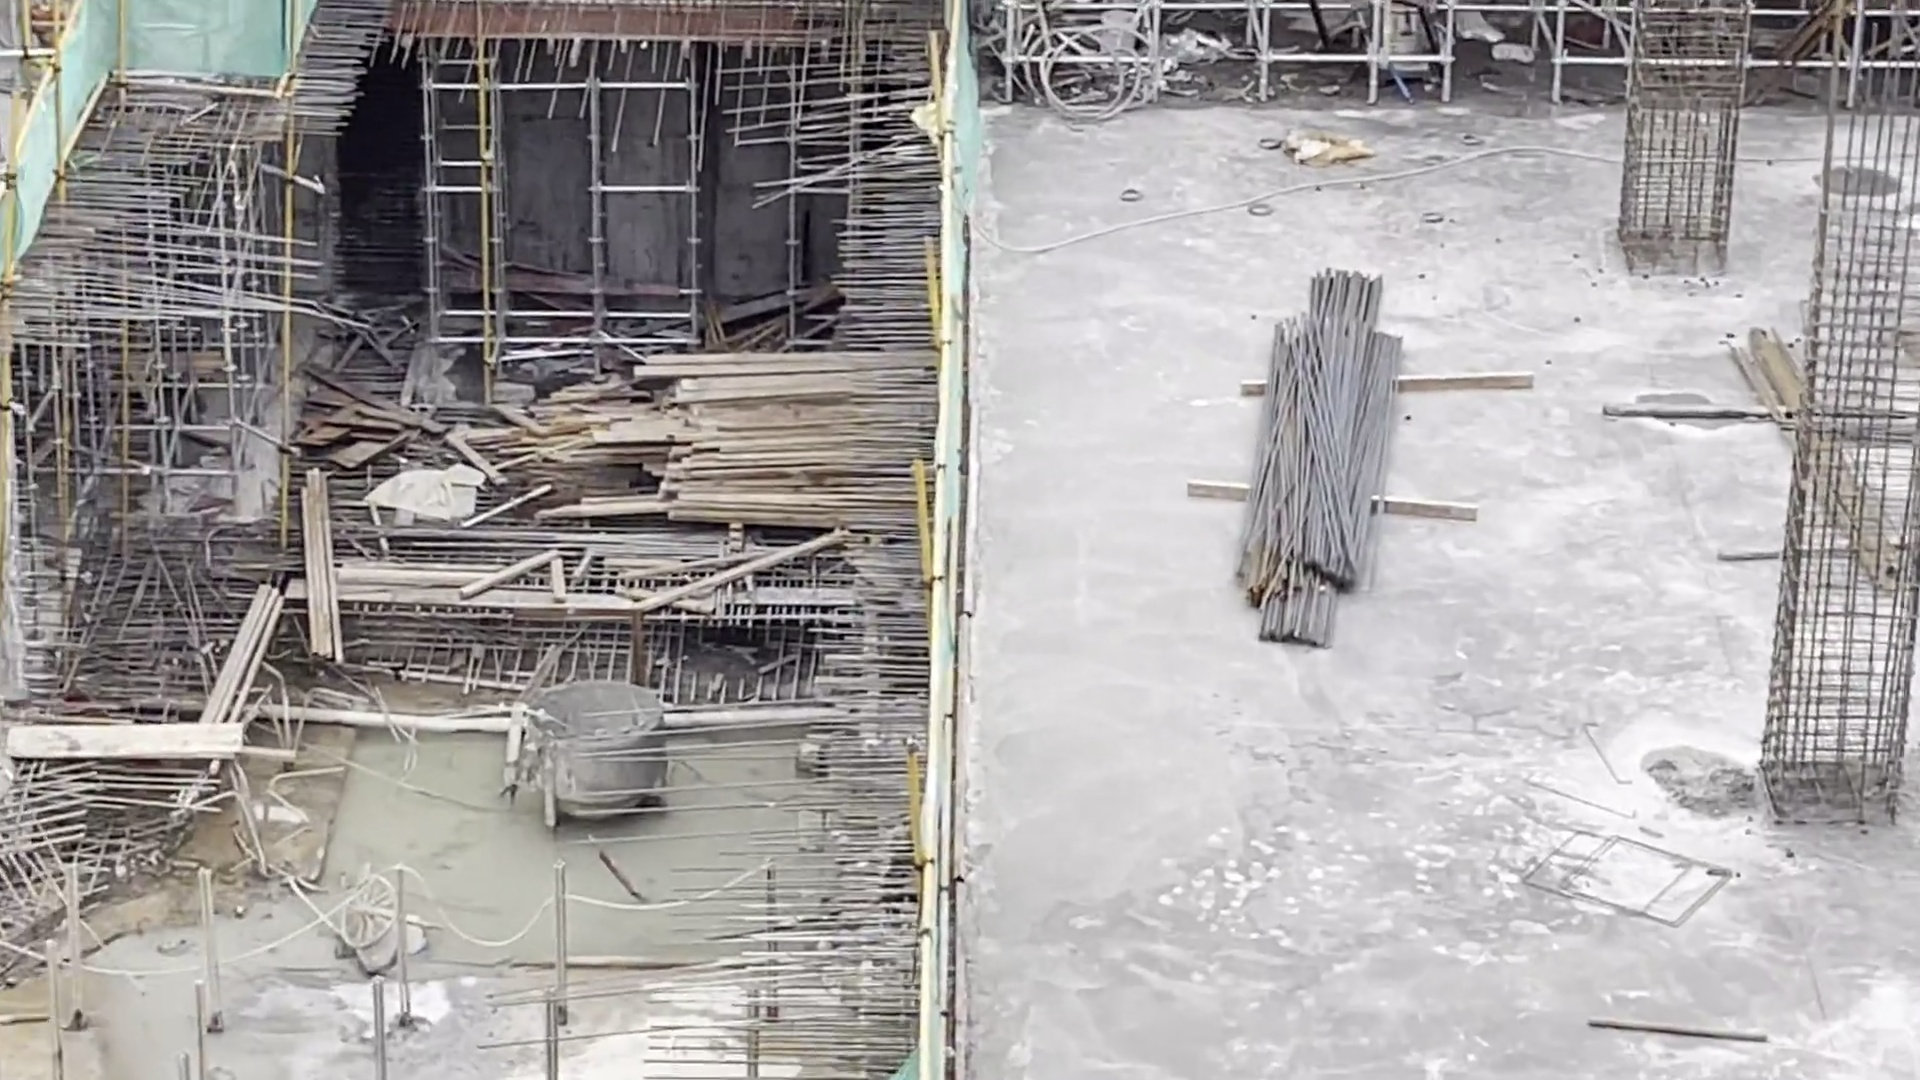rebar: (1250, 265, 1406, 655)
wood: (626, 340, 932, 521)
